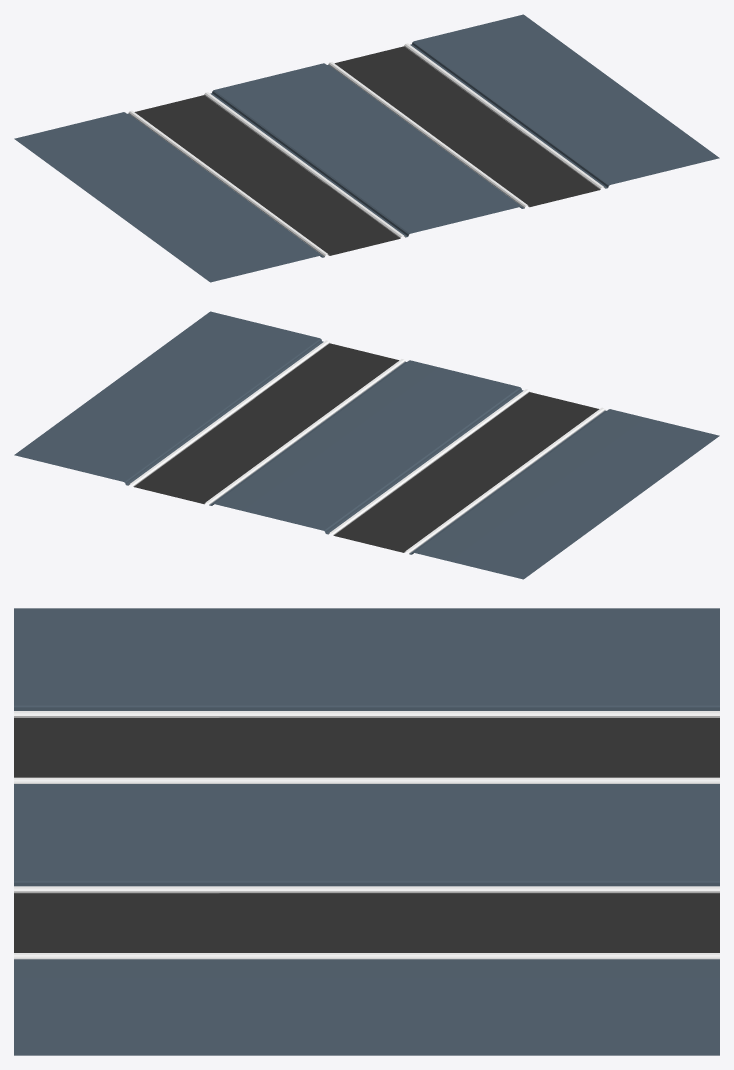
The model's file is floor_extra_wide.fbx.
The picture shows the model from 3 angles, top to bottom: view 1: azimuth 30°, elevation 25°; view 2: azimuth 150°, elevation 25°; view 3: azimuth 270°, elevation 25°; orthographic projection. The views are drawn at different scales.
Parts seen in each view (by area): view 1: env_asset_floor_4piece; view 2: env_asset_floor_4piece; view 3: env_asset_floor_4piece.
Boxes of the visible parts, left/top/right/bottom form: env_asset_floor_4piece: left=14, top=14, right=719, bottom=282; env_asset_floor_4piece: left=14, top=311, right=719, bottom=579; env_asset_floor_4piece: left=14, top=608, right=719, bottom=1055.
Bounding box in the file's own units: 66.85 × 0.3415 × 44.61.
